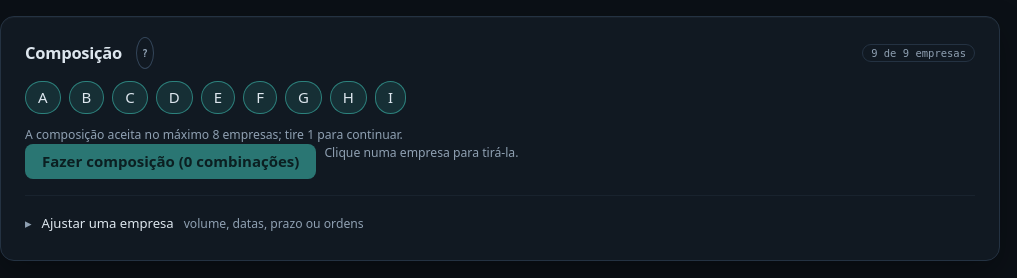
it: LeverBuilder · composição › com mais de 8 empresas na composição, pede para tirar empresas
Expected: the button "Fazer composição (0 combinações)" is disabled, [25, 144, 316, 179]
Expected: the text "no máximo 8 empresas" is shown, [25, 126, 403, 142]
What coordinates should you click on to do the following:
click the button "I"
I would click on:
 (391, 97)
Its box is [375, 81, 406, 114].
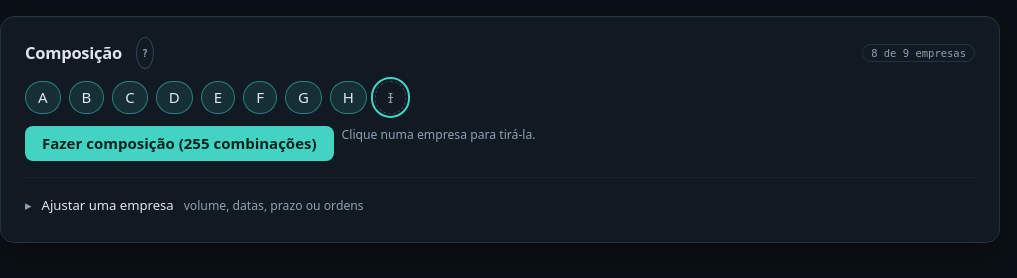
Result: the button "Fazer composição (255 combinações)" is enabled at [25, 126, 334, 161]
